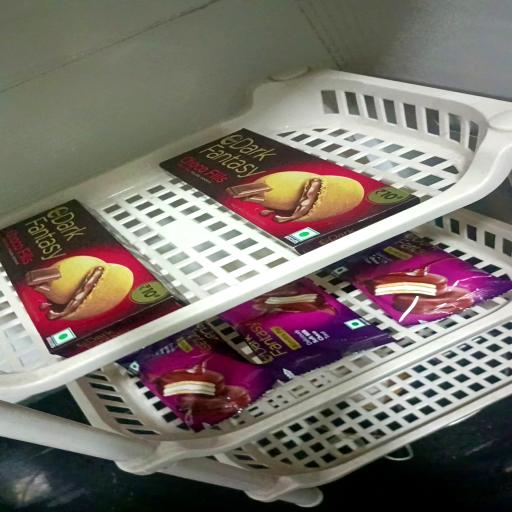Choco Fills: (157, 127, 418, 252), (0, 197, 188, 354)
Choco Pie: (217, 277, 395, 381), (320, 233, 510, 328), (120, 319, 280, 431)
